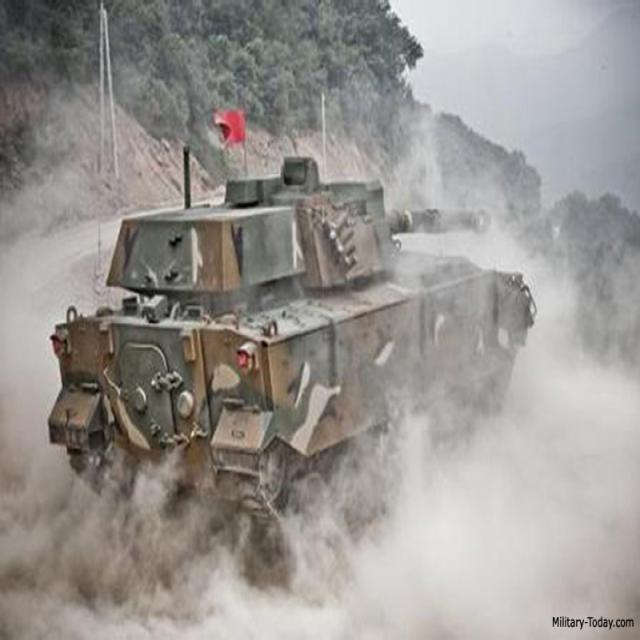Tank: (76, 123, 542, 558)
